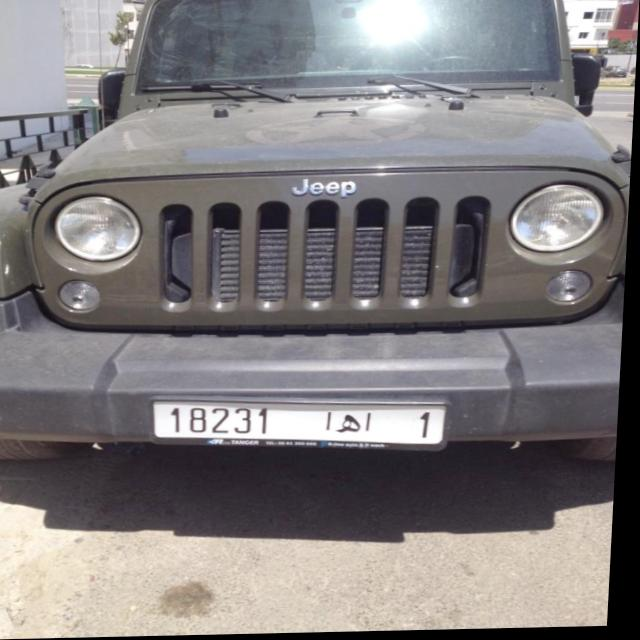License-Plate: (158, 402, 451, 451)
